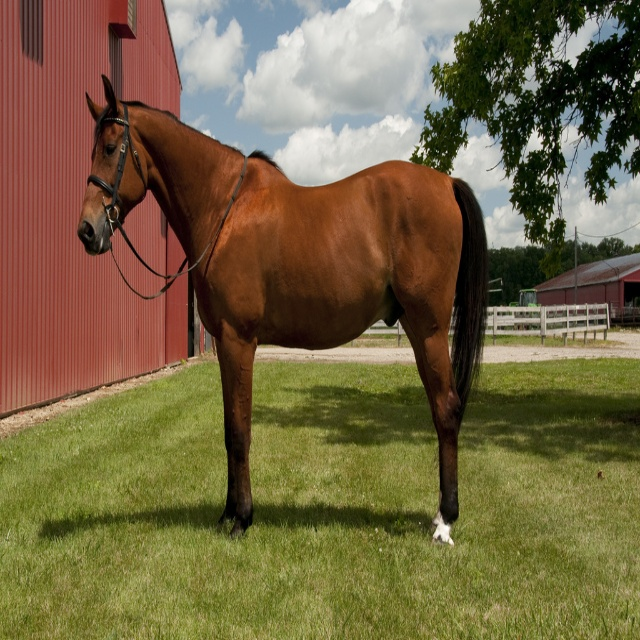Horse: (77, 76, 490, 551)
